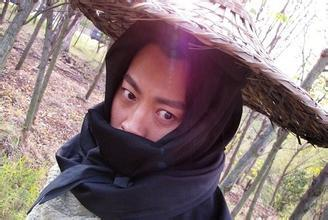WRONG: (105, 68, 197, 165)
